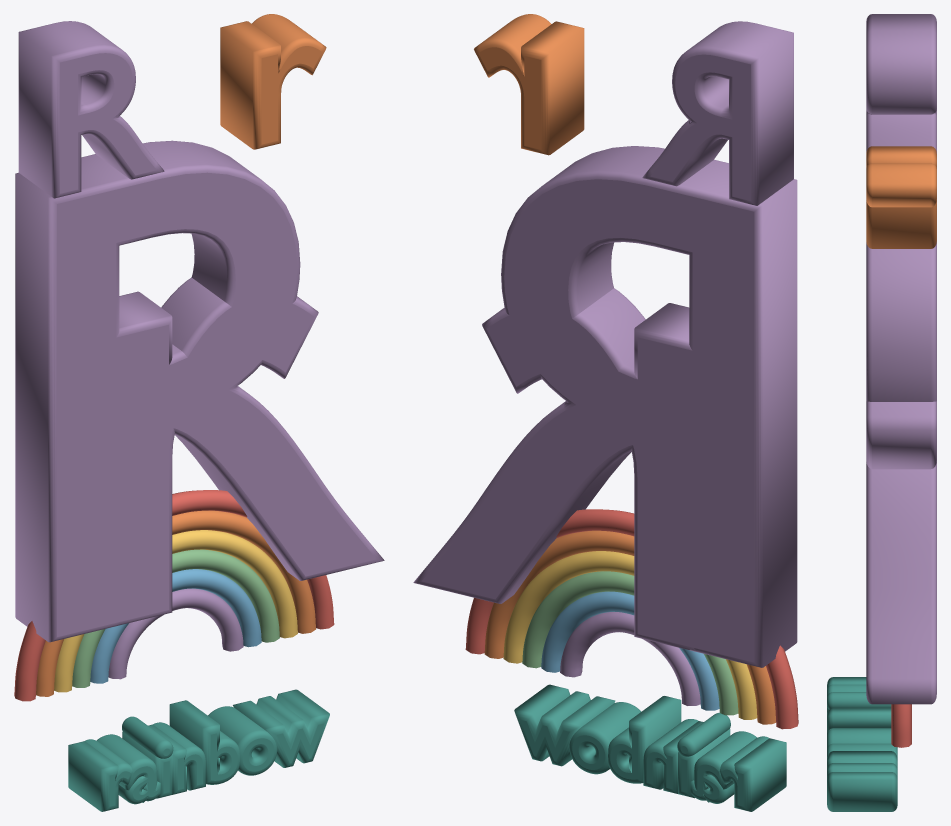
File: letter-r.glb
3 views of the same model, side by side, from view 1: azimuth 30°, elevation 25°; view 2: azimuth 150°, elevation 25°; view 3: azimuth 270°, elevation 25° (orthographic). The views are drawn at different scales.
Parts seen in each view (by area): view 1: letter solid, letter solid.001, example word, uppercase solid, lowercase solid, rainbow arch.002, rainbow arch.001, rainbow arch.003, rainbow arch, rainbow arch.004, rainbow arch.005; view 2: letter solid, letter solid.001, example word, uppercase solid, lowercase solid, rainbow arch.002, rainbow arch.001, rainbow arch.003, rainbow arch, rainbow arch.004, rainbow arch.005; view 3: letter solid, uppercase solid, example word, lowercase solid, letter solid.001, rainbow arch.
Boxes of the visible parts, left/top/right/bottom form: letter solid: left=15, top=140, right=384, bottom=642; letter solid.001: left=115, top=277, right=318, bottom=625; example word: left=68, top=689, right=329, bottom=811; uppercase solid: left=18, top=21, right=164, bottom=198; lowercase solid: left=220, top=14, right=326, bottom=149; rainbow arch.002: left=54, top=530, right=297, bottom=692; rainbow arch.001: left=36, top=510, right=315, bottom=696; rainbow arch.003: left=72, top=549, right=279, bottom=687; rainbow arch: left=14, top=490, right=334, bottom=701; rainbow arch.004: left=90, top=569, right=261, bottom=683; rainbow arch.005: left=108, top=588, right=243, bottom=679; letter solid: left=413, top=146, right=797, bottom=667; letter solid.001: left=482, top=288, right=696, bottom=650; example word: left=514, top=684, right=786, bottom=811; uppercase solid: left=642, top=21, right=793, bottom=205; lowercase solid: left=474, top=14, right=584, bottom=155; rainbow arch.002: left=503, top=551, right=757, bottom=719; rainbow arch.001: left=484, top=530, right=775, bottom=724; rainbow arch.003: left=522, top=571, right=738, bottom=715; rainbow arch: left=465, top=509, right=798, bottom=729; rainbow arch.004: left=541, top=591, right=719, bottom=710; rainbow arch.005: left=560, top=612, right=700, bottom=705; letter solid: left=866, top=242, right=936, bottom=704; uppercase solid: left=866, top=14, right=936, bottom=153; example word: left=827, top=677, right=897, bottom=811; lowercase solid: left=866, top=146, right=936, bottom=248; letter solid.001: left=866, top=401, right=936, bottom=469; rainbow arch: left=891, top=704, right=911, bottom=747.
Size of the model in its own units: 0.9597 by 1.94 by 0.28.
